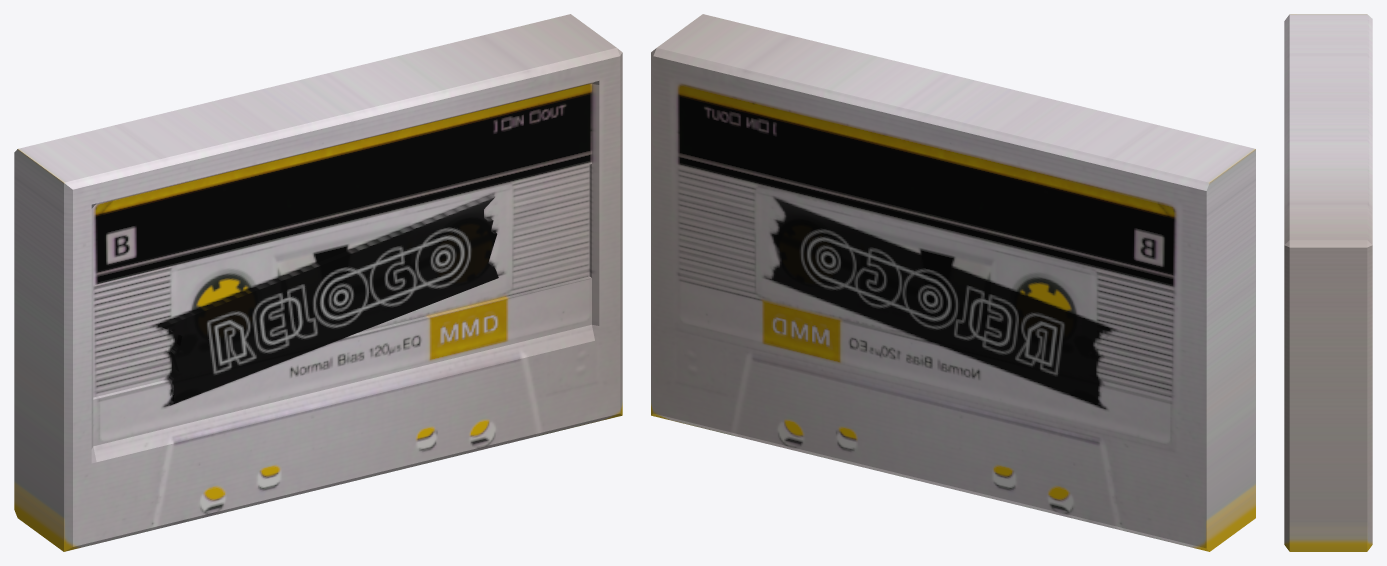
File: 3DMODEL.glb
3 views of the same model, side by side, from view 1: azimuth 30°, elevation 25°; view 2: azimuth 150°, elevation 25°; view 3: azimuth 270°, elevation 25° (orthographic). The views are drawn at different scales.
Parts seen in each view (by area): view 1: Cube; view 2: Cube; view 3: Cube.
Part boxes in pixels (<box>): Cube: <box>14,14,622,551</box>; Cube: <box>651,14,1255,551</box>; Cube: <box>1284,14,1372,551</box>.
Bounding box in the file's own units: 2.6 × 1.64 × 0.425.
Materials: 1 (1 with a texture image).
